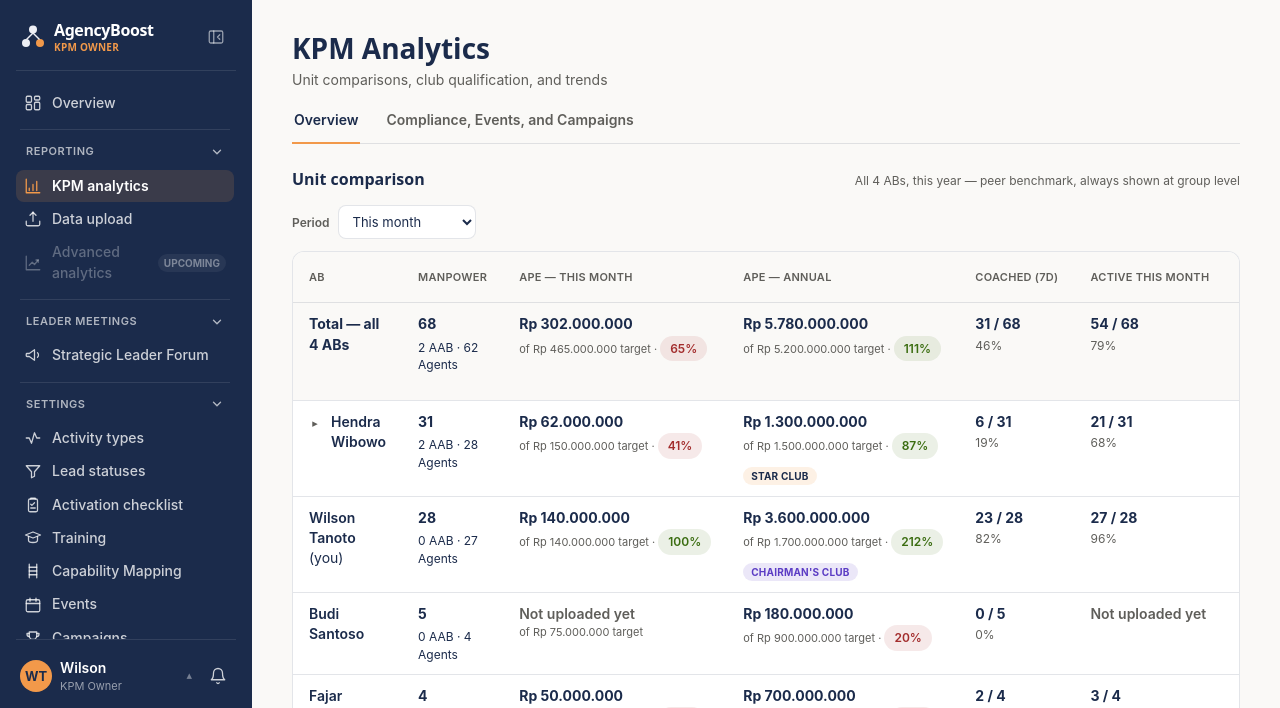
Test: KPM analytics (P18-T2) › AC-3 the figures › moves the month’s columns with the period and leaves APE — Annual, Coached (7d) and Manpower as they are
Step 1. Select "Previous month" in the dropdown labelled "Period" → (406, 222), box [338, 205, 476, 239]
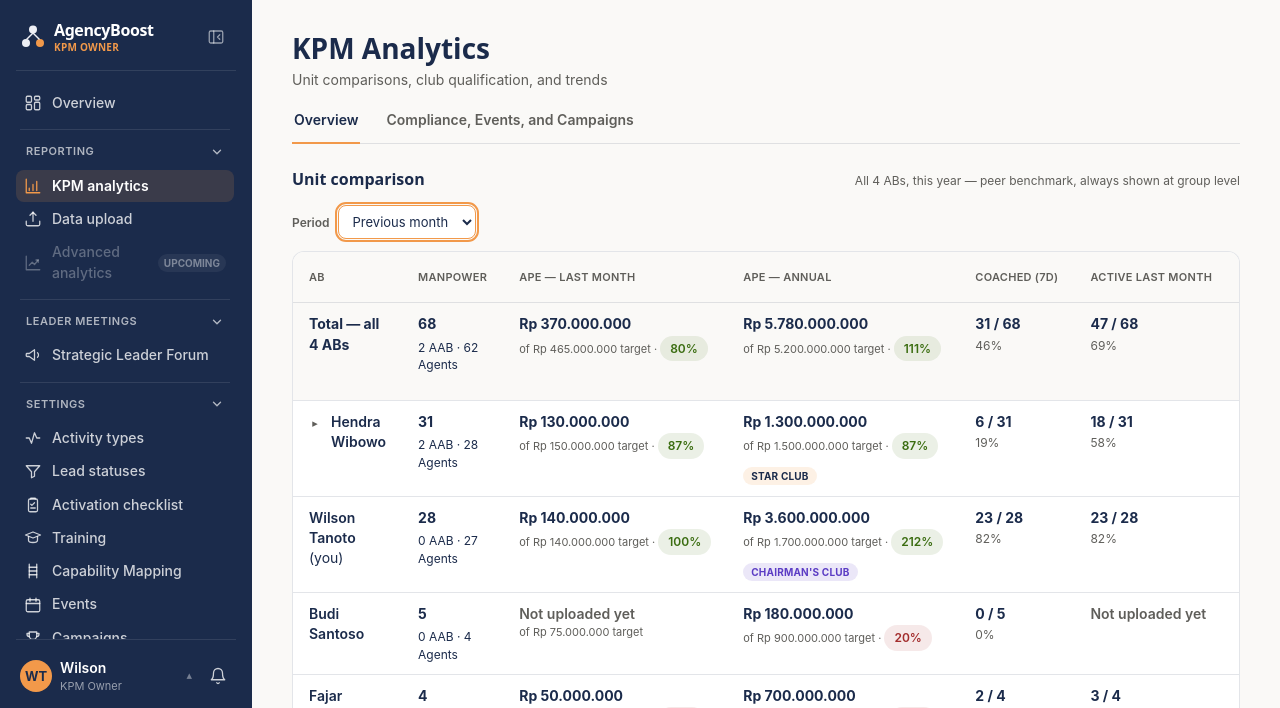
Now the column heading "Active last month" is shown, box [1074, 252, 1228, 303]
Now the column heading "APE — Last Month" is shown, box [503, 252, 727, 303]
Now the column heading "APE — This Month" is gone
